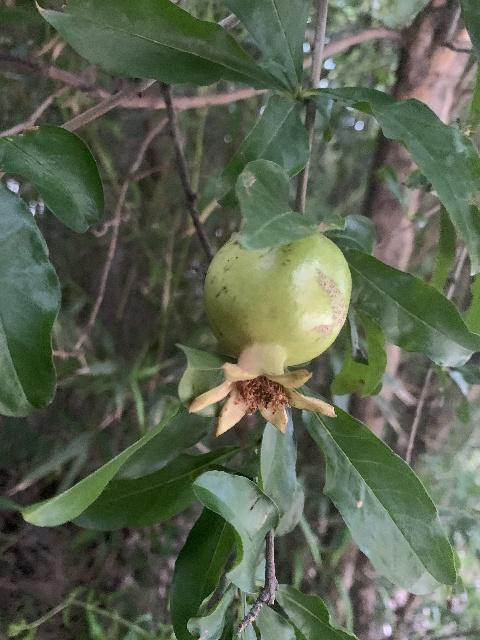mid-growth: (185, 230, 352, 438)
